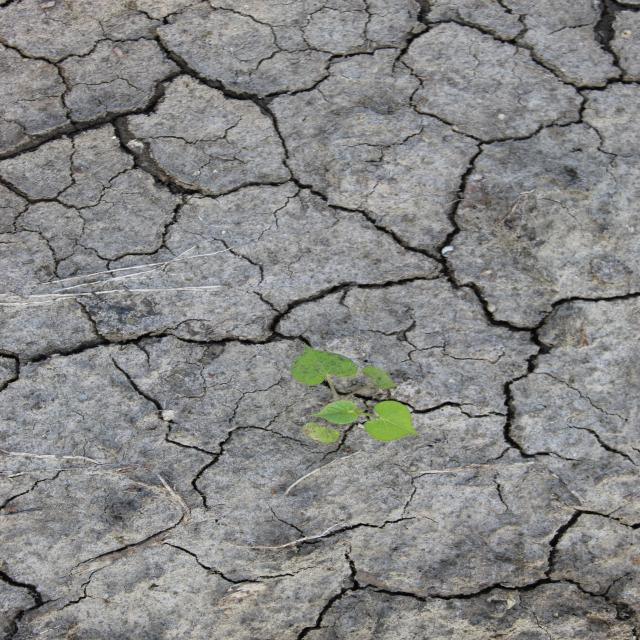MorningGlory: (288, 342, 424, 446)
